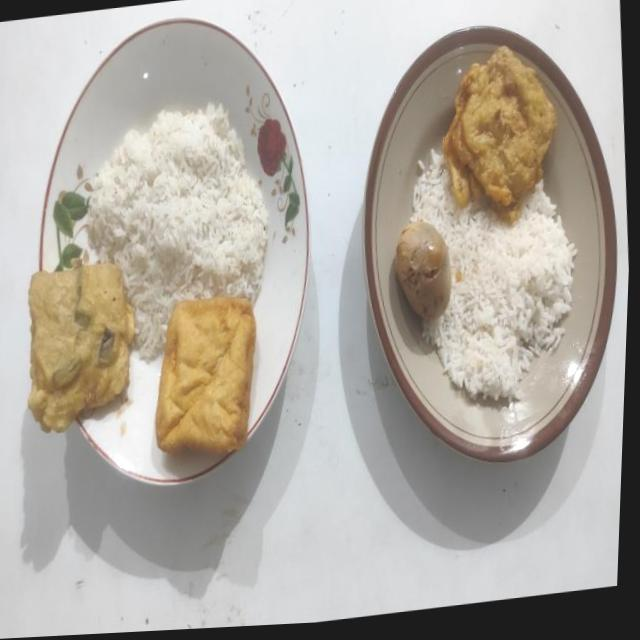nasi_putih: (87, 105, 267, 362), (410, 148, 577, 400)
tahu_goreng: (155, 296, 256, 452)
